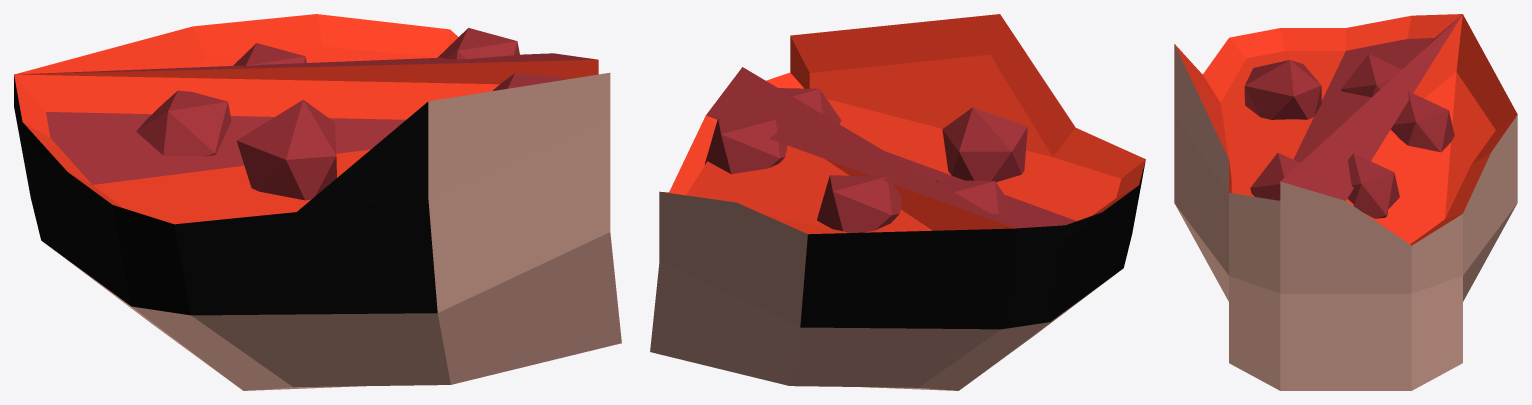
Rendered from head_gibbed.glb.
3 views of the same model, side by side, from view 1: azimuth 30°, elevation 25°; view 2: azimuth 150°, elevation 25°; view 3: azimuth 270°, elevation 25° (orthographic). The views are drawn at different scales.
Visible parts, largest first — view 1: Head_Gib1; view 2: Head_Gib1; view 3: Head_Gib1.
Part boxes in pixels (box(x1,y1,x2,y2)): Head_Gib1: box(14, 14, 621, 390); Head_Gib1: box(650, 14, 1145, 390); Head_Gib1: box(1174, 14, 1517, 390).
Bounding box in the file's own units: 2.05 × 1.38 × 1.68.
1 material, 1 textured.
